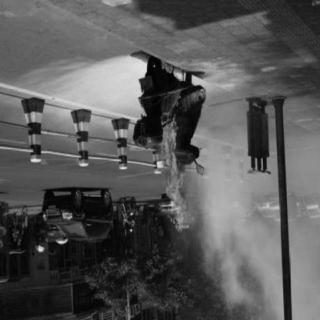Fire: (161, 62, 171, 72)
